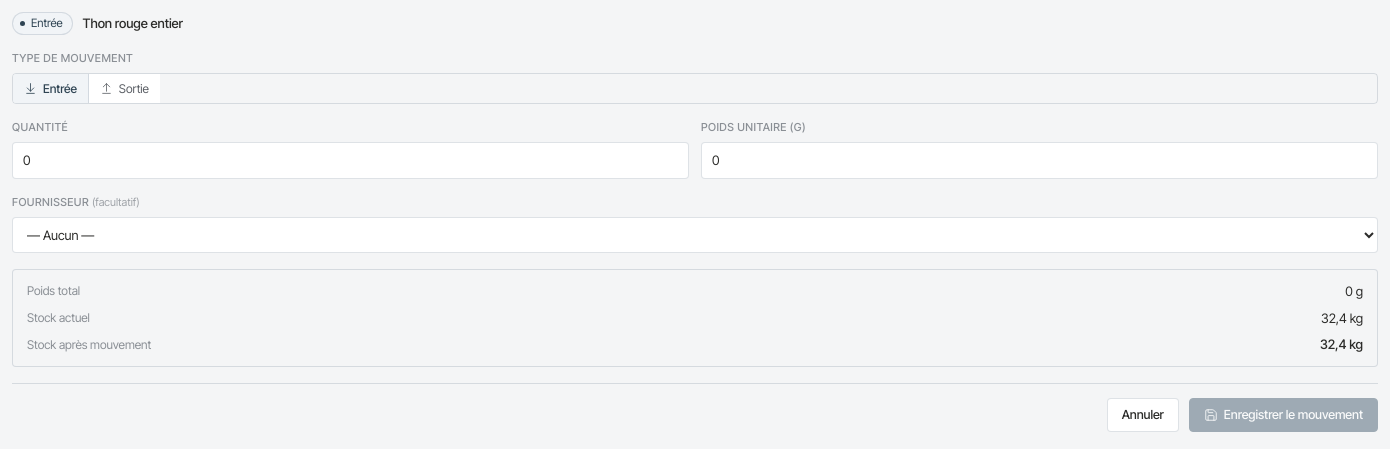
Test case: ErpStockMovement — récapitulatif live › calcule le stock après mouvement pour une Sortie
Click the button with class "seg-btn" showing "Sortie": {"x": 124, "y": 88} 89,74 -> 160,103
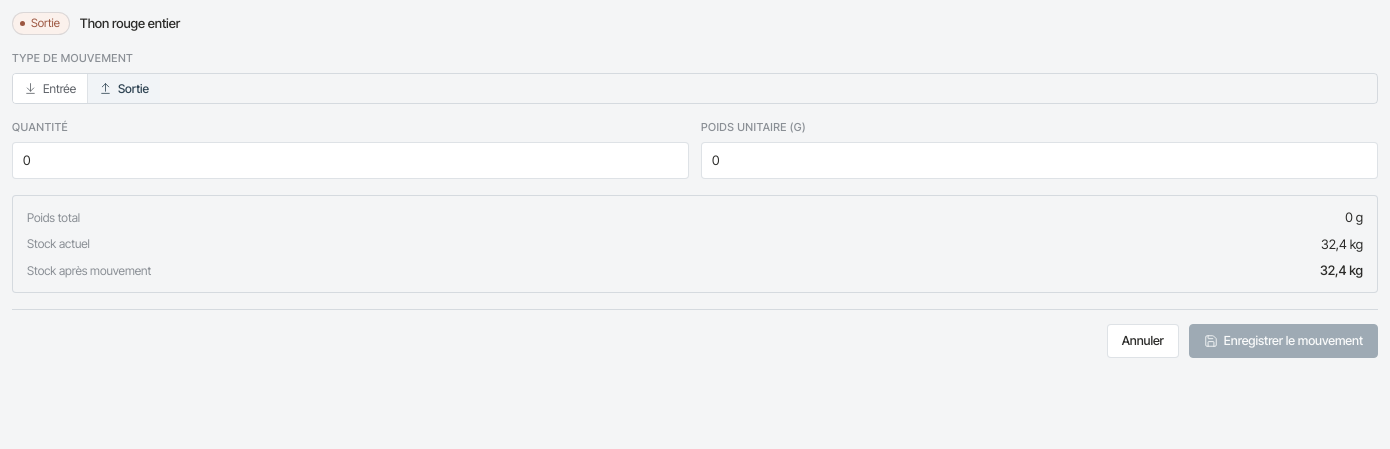
In the number field named "qty": {"x": 350, "y": 160} 12,142 -> 689,179, type "2"
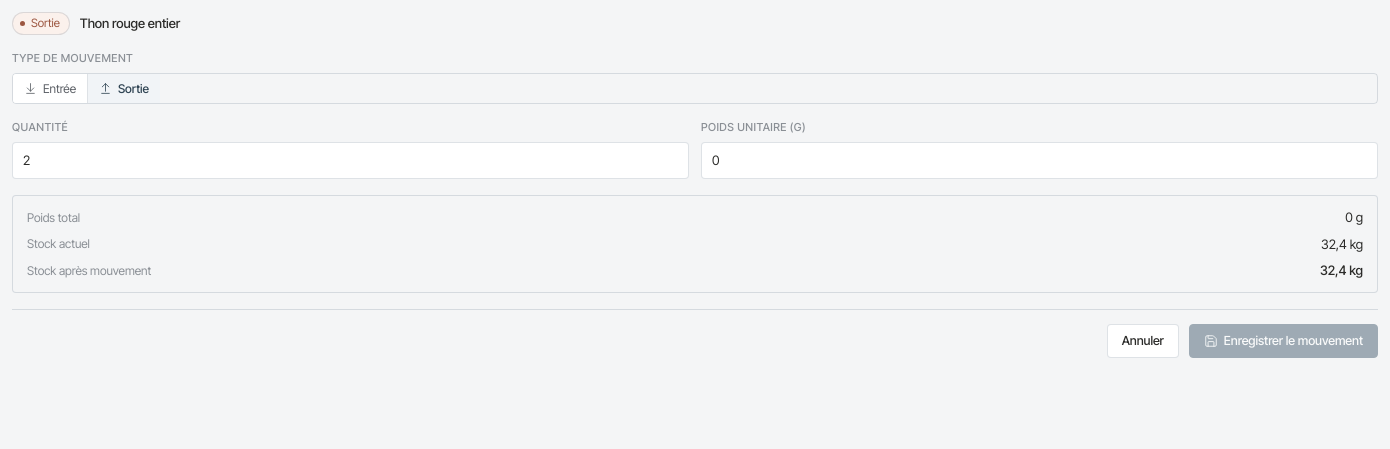
In the number field named "unitWeight": {"x": 1040, "y": 160} 701,142 -> 1378,179, type "1000"
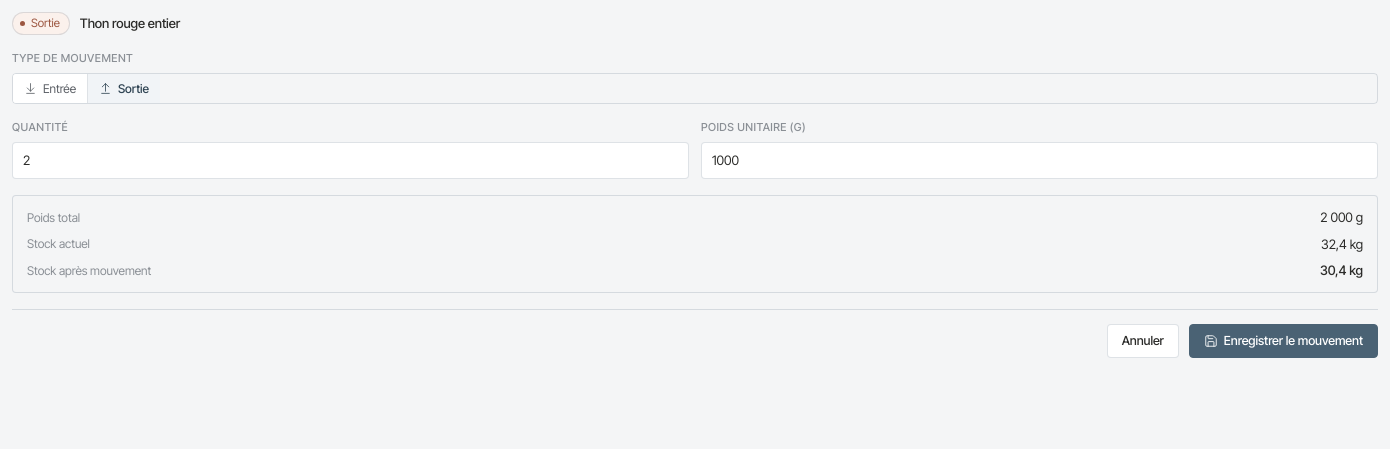
Now the text "30,4 kg" is shown, box 1320,262 -> 1363,280
